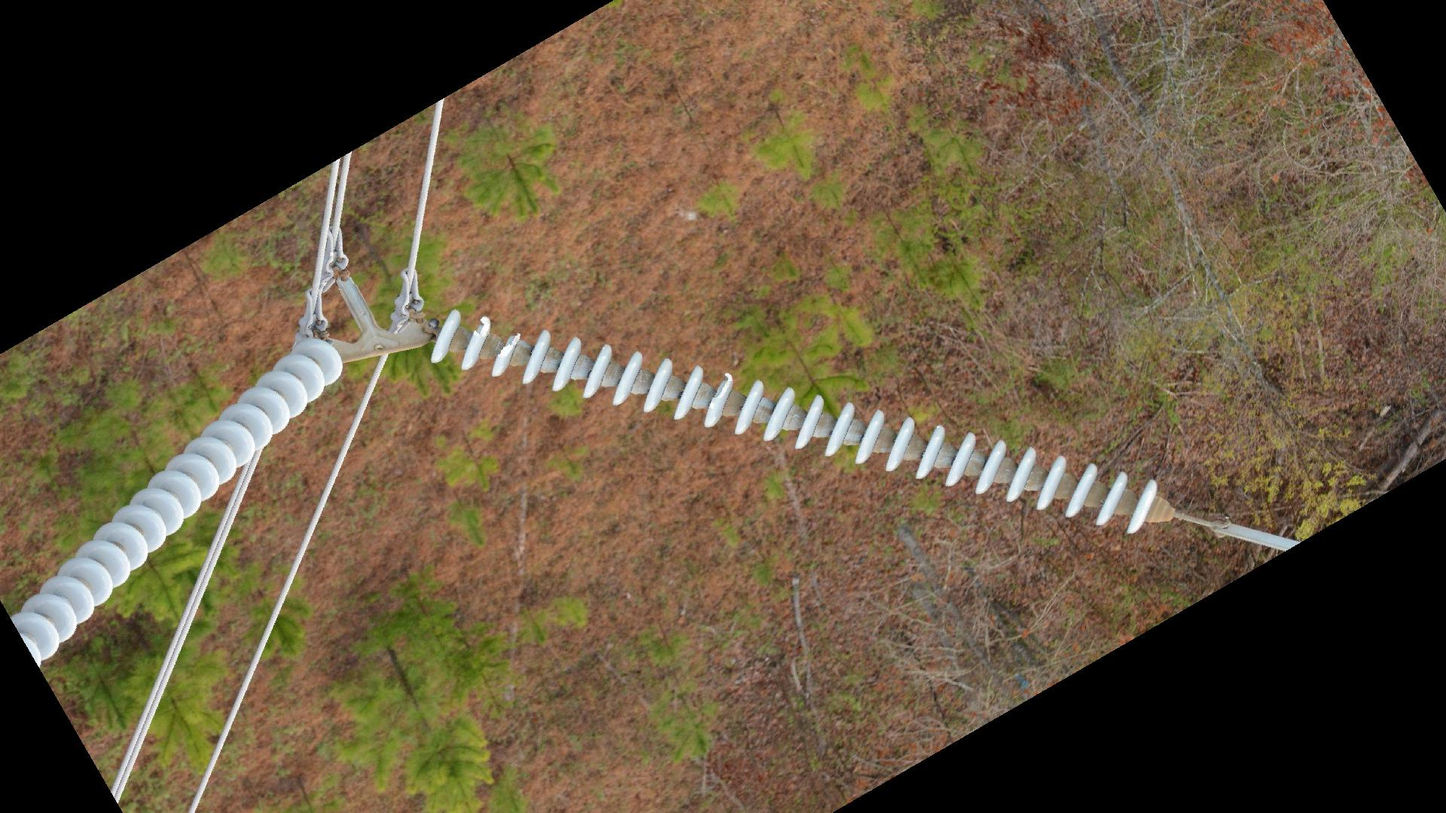insulator: (426, 306, 1162, 539), (8, 334, 348, 665)
insulator_breakage: (494, 330, 523, 361), (710, 371, 735, 403), (471, 315, 493, 340)
